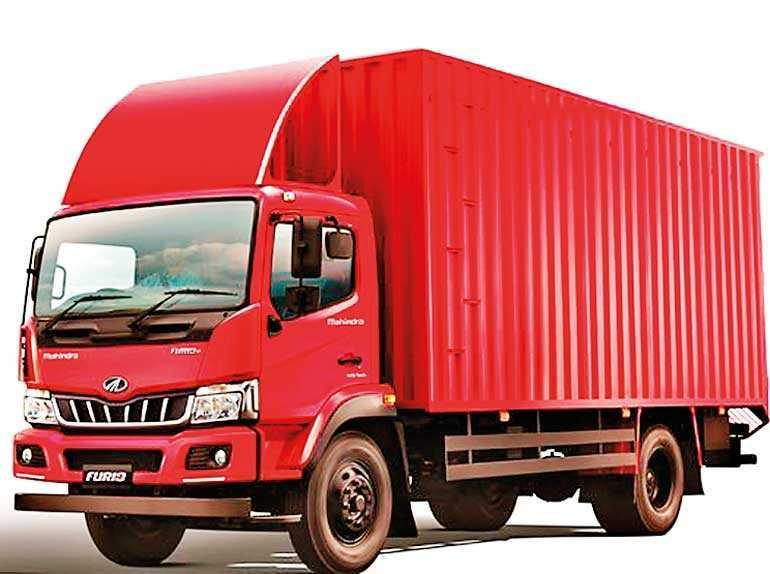truck: (12, 47, 770, 574)
